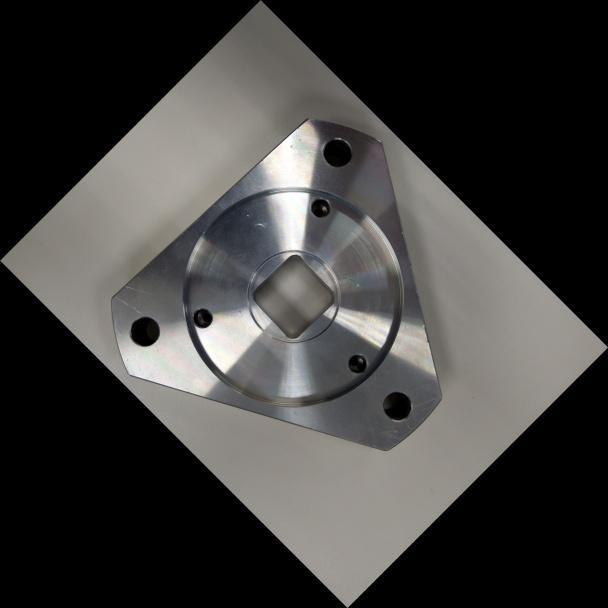hole: (121, 307, 168, 355), (374, 383, 420, 429), (314, 129, 360, 175), (303, 191, 337, 224), (340, 347, 373, 380), (185, 301, 218, 334)
